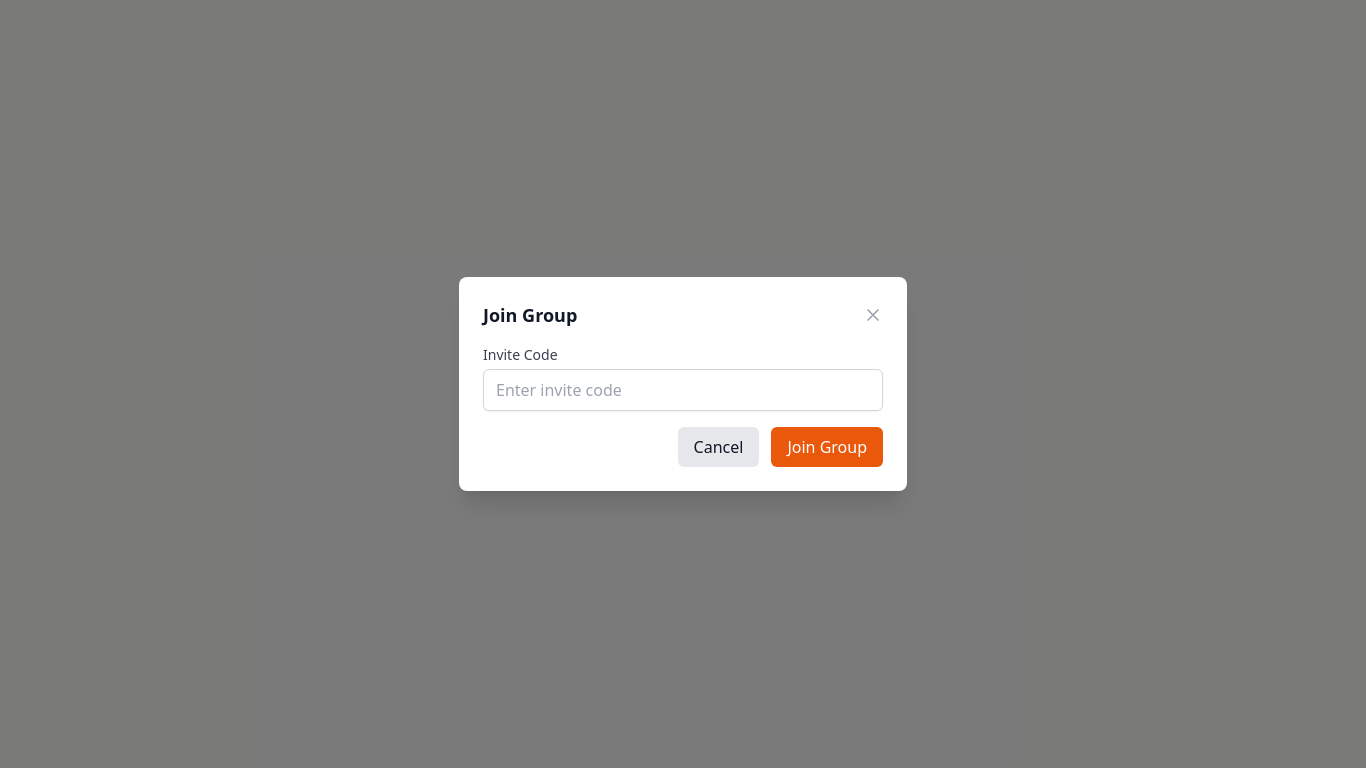
Test: JoinGroupModal › should validate required invite code
Click the button "Join Group".
click(827, 447)  # box [771,427,883,467]
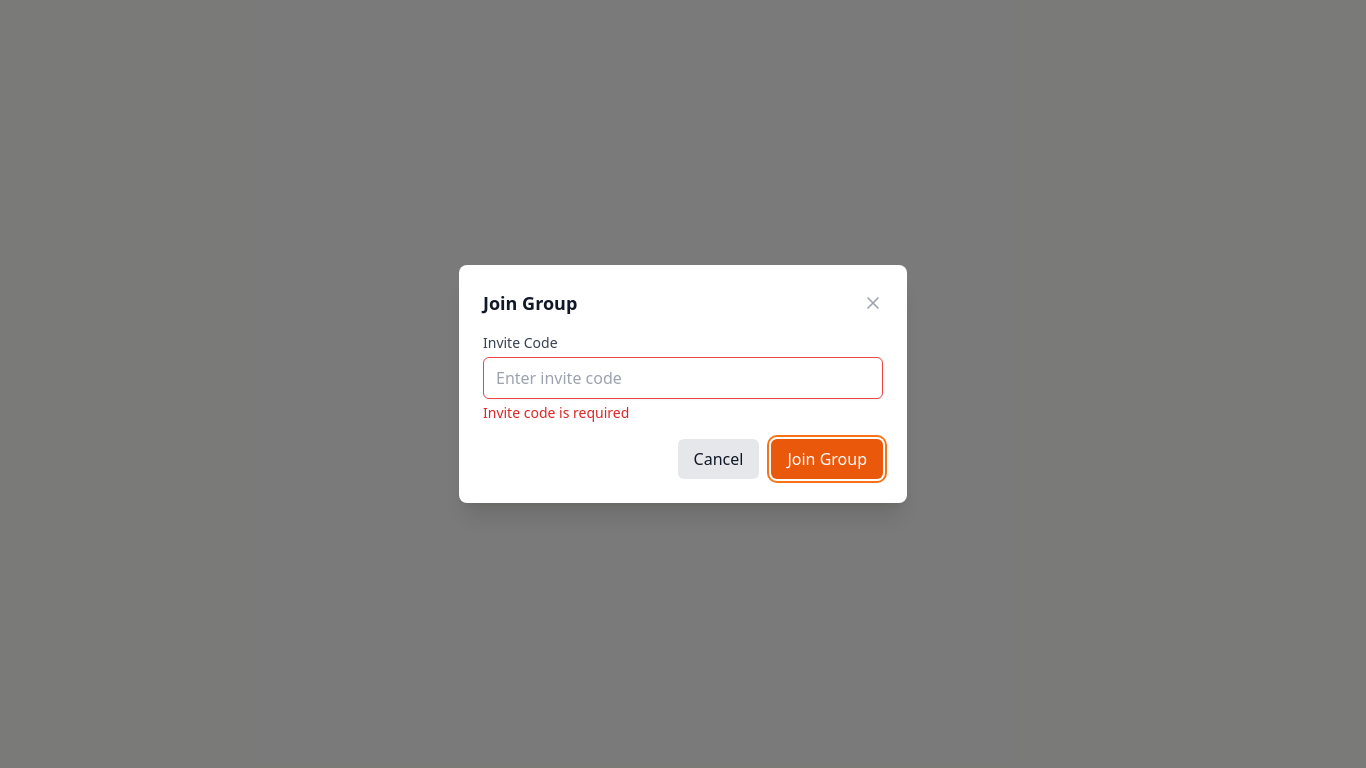
Expected: the text "Invite code is required" is shown, [483,403,629,422]
